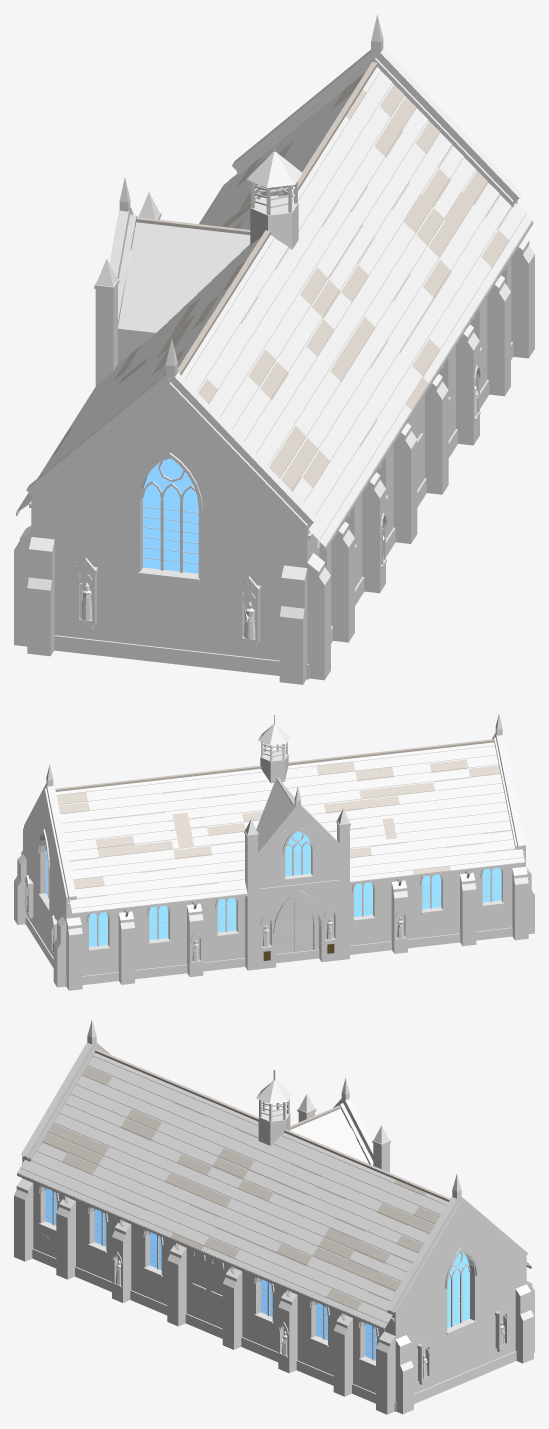
The model's file is concordia_salon_hazanas.glb.
The picture shows the model from 3 angles, top to bottom: view 1: azimuth 30°, elevation 25°; view 2: azimuth 150°, elevation 25°; view 3: azimuth 270°, elevation 25°; orthographic projection. The views are drawn at different scales.
Visible parts, largest first — view 1: SALON_HAZANAS_Roof, SALON_HAZANAS_Body; view 2: SALON_HAZANAS_Roof, SALON_HAZANAS_Body; view 3: SALON_HAZANAS_Roof, SALON_HAZANAS_Body.
Part boxes in pixels (x1=…): SALON_HAZANAS_Roof: x1=16, y1=62, x2=532, y2=550; SALON_HAZANAS_Body: x1=14, y1=15, x2=534, y2=684; SALON_HAZANAS_Roof: x1=55, y1=715, x2=525, y2=915; SALON_HAZANAS_Body: x1=14, y1=713, x2=534, y2=990; SALON_HAZANAS_Roof: x1=17, y1=1049, x2=531, y2=1330; SALON_HAZANAS_Body: x1=14, y1=1020, x2=534, y2=1414.
Size of what is drawn, in the model's own units: 39.88 by 19.8 by 39.88.
9 materials, 7 textured.
